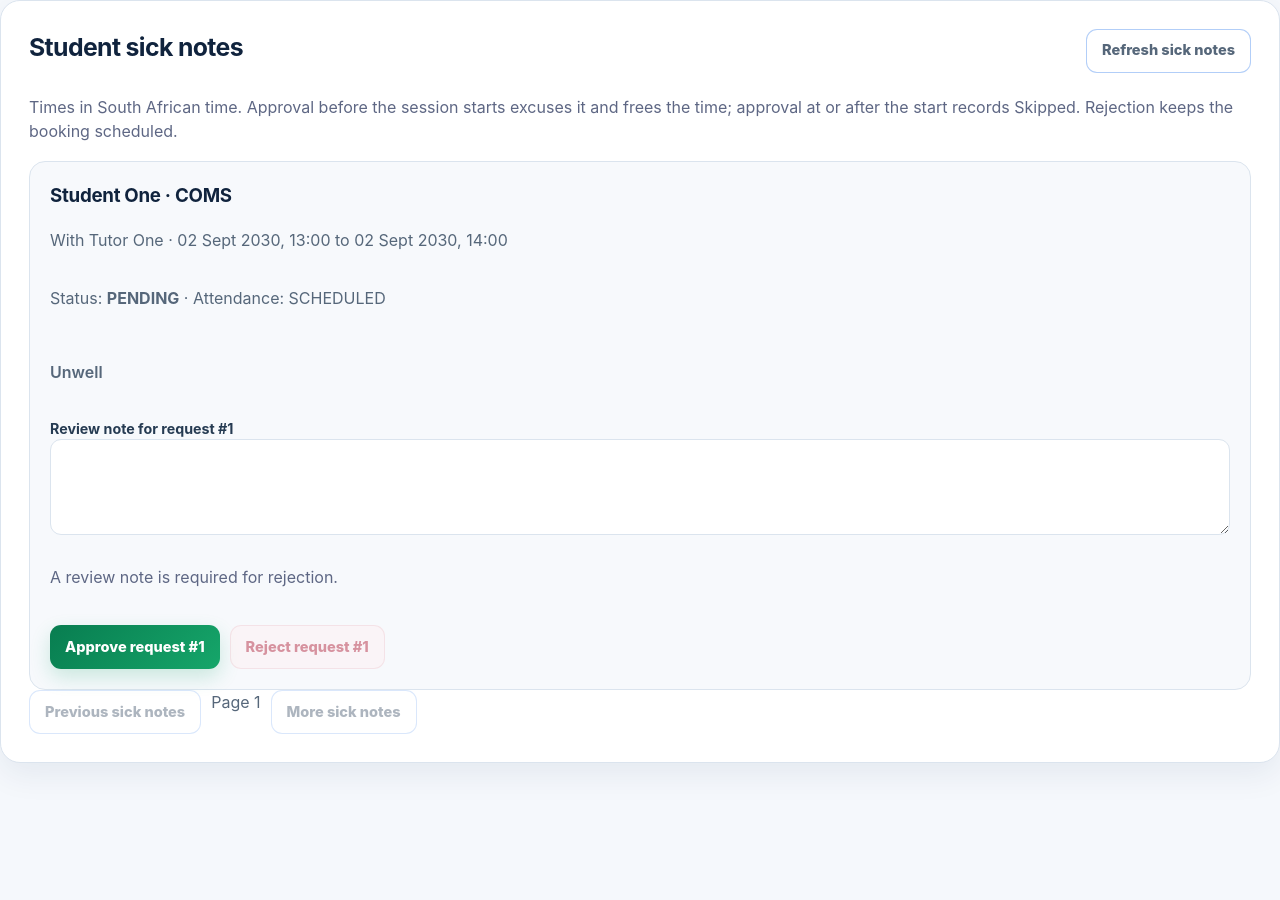
Test: refreshes a stale Organiser view, removes invalid actions and recovers focus
Step 1. Click the button "Approve request #1" → (135, 647), box [50,625,220,669]
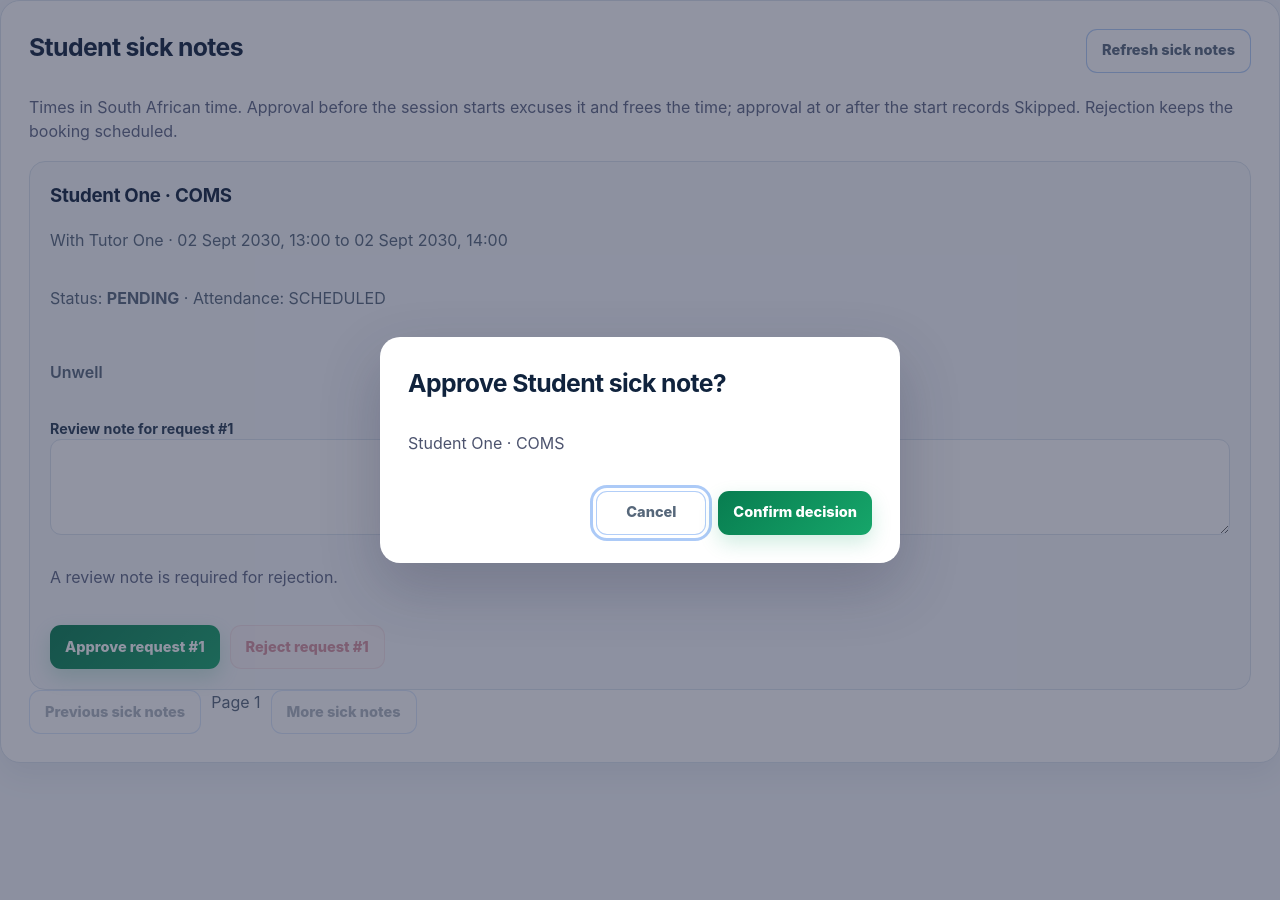
Step 2. Click the button "Confirm decision" → (795, 513), box [718,491,872,535]
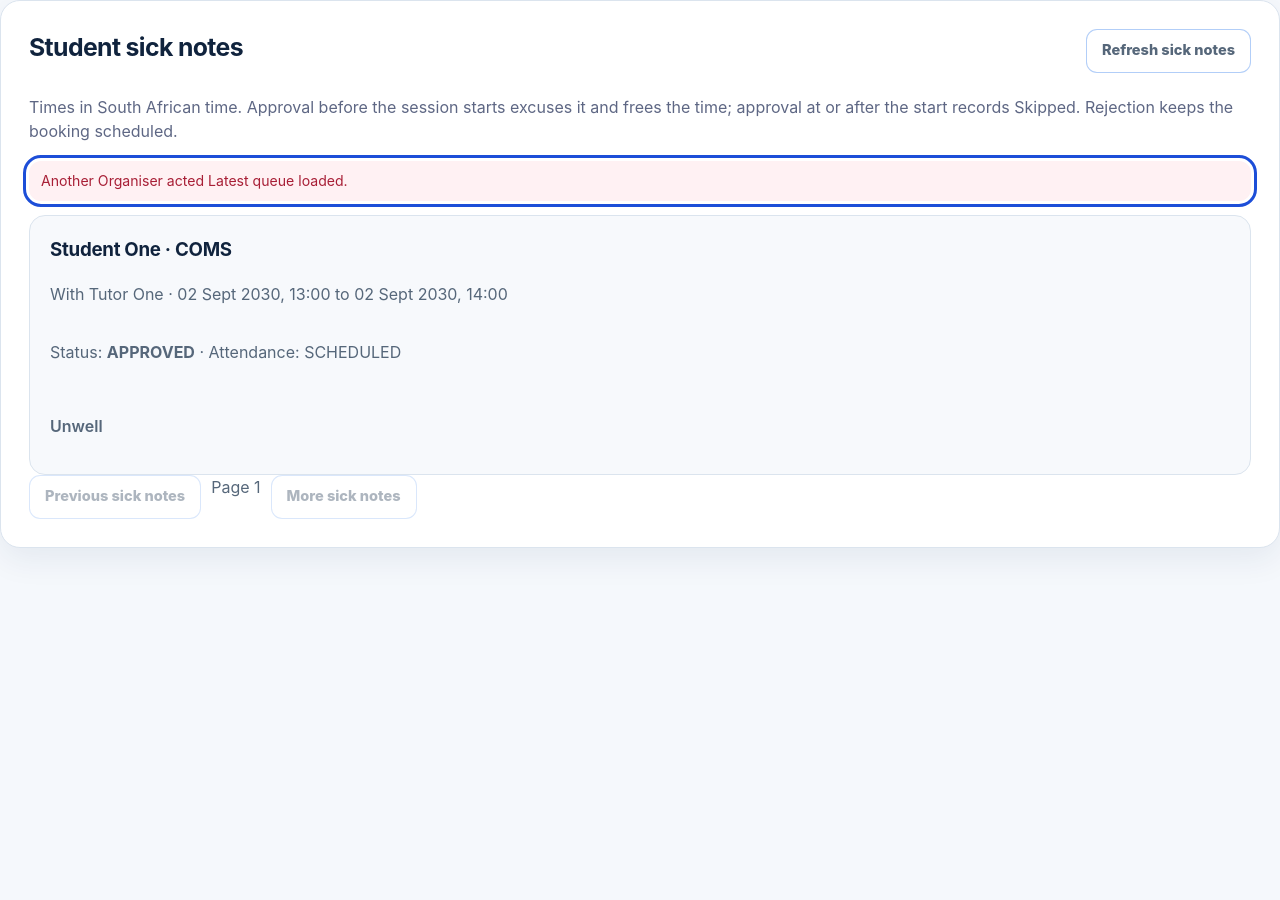
Check: the message shows "Latest queue loaded", box [41,172,348,189]
Check: the button "Approve request #1" is gone
